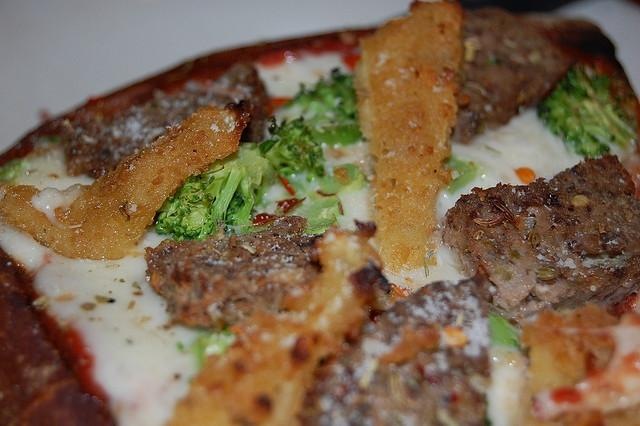broccoli: (536, 64, 639, 161), (179, 142, 271, 240), (284, 66, 364, 142), (260, 118, 324, 180)
